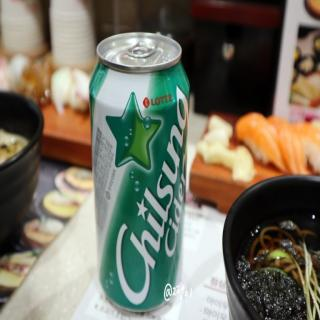chilsung: (87, 28, 190, 317)
